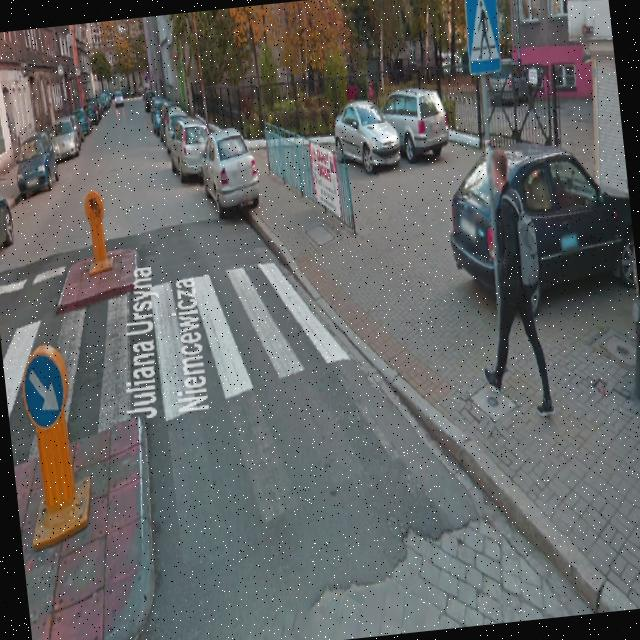Przejscie dla pieszych: (461, 0, 502, 75)
